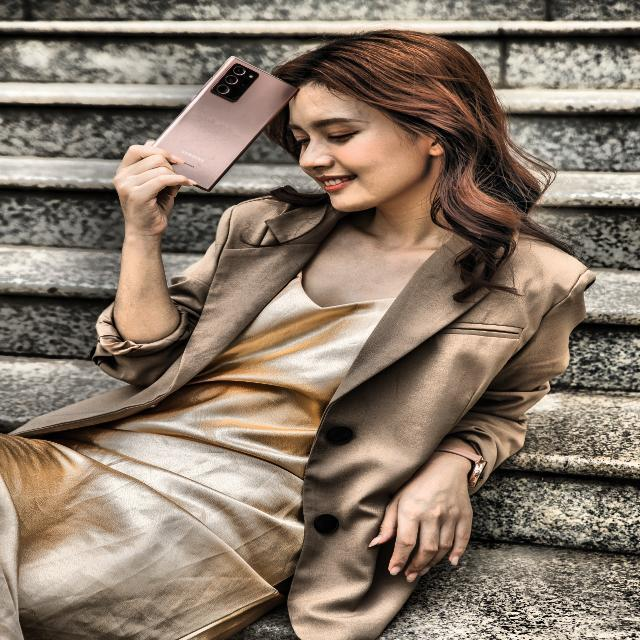Phone: (149, 54, 301, 195)
